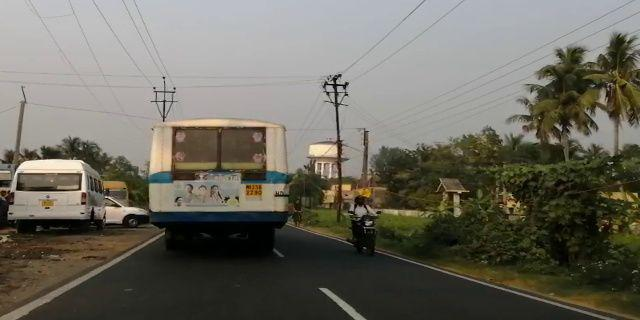Bus: (145, 120, 298, 257)
Car: (100, 194, 147, 232)
Motorbike: (336, 194, 386, 256)
Van: (5, 155, 106, 236)
